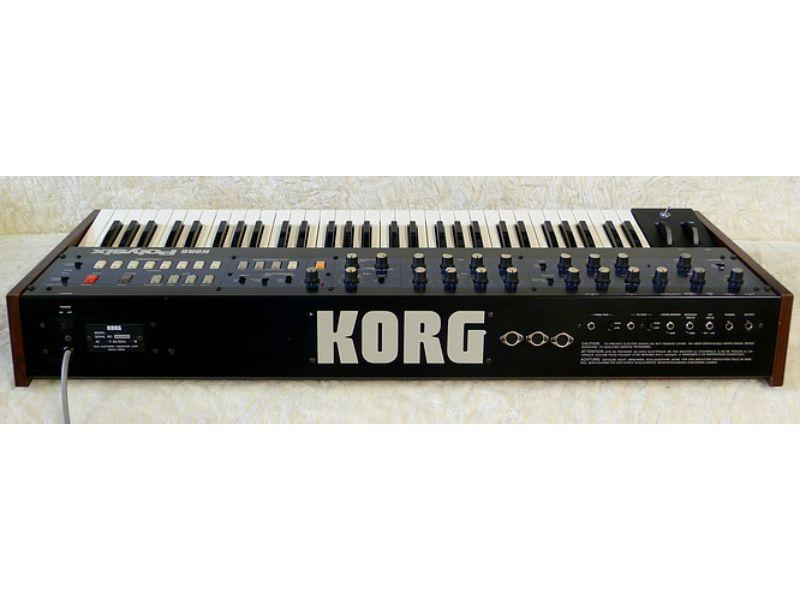synthesizer: (12, 194, 791, 392)
